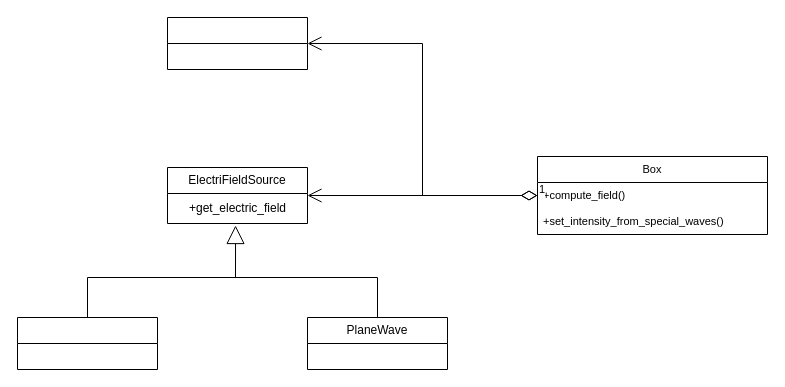
Some shapes in this 785 by 387 pixel diagram are drawn without their labels. Each missing label, with the centre of its shape:
PointSource: the point at 87,343
spatialWave: the point at 237,43
